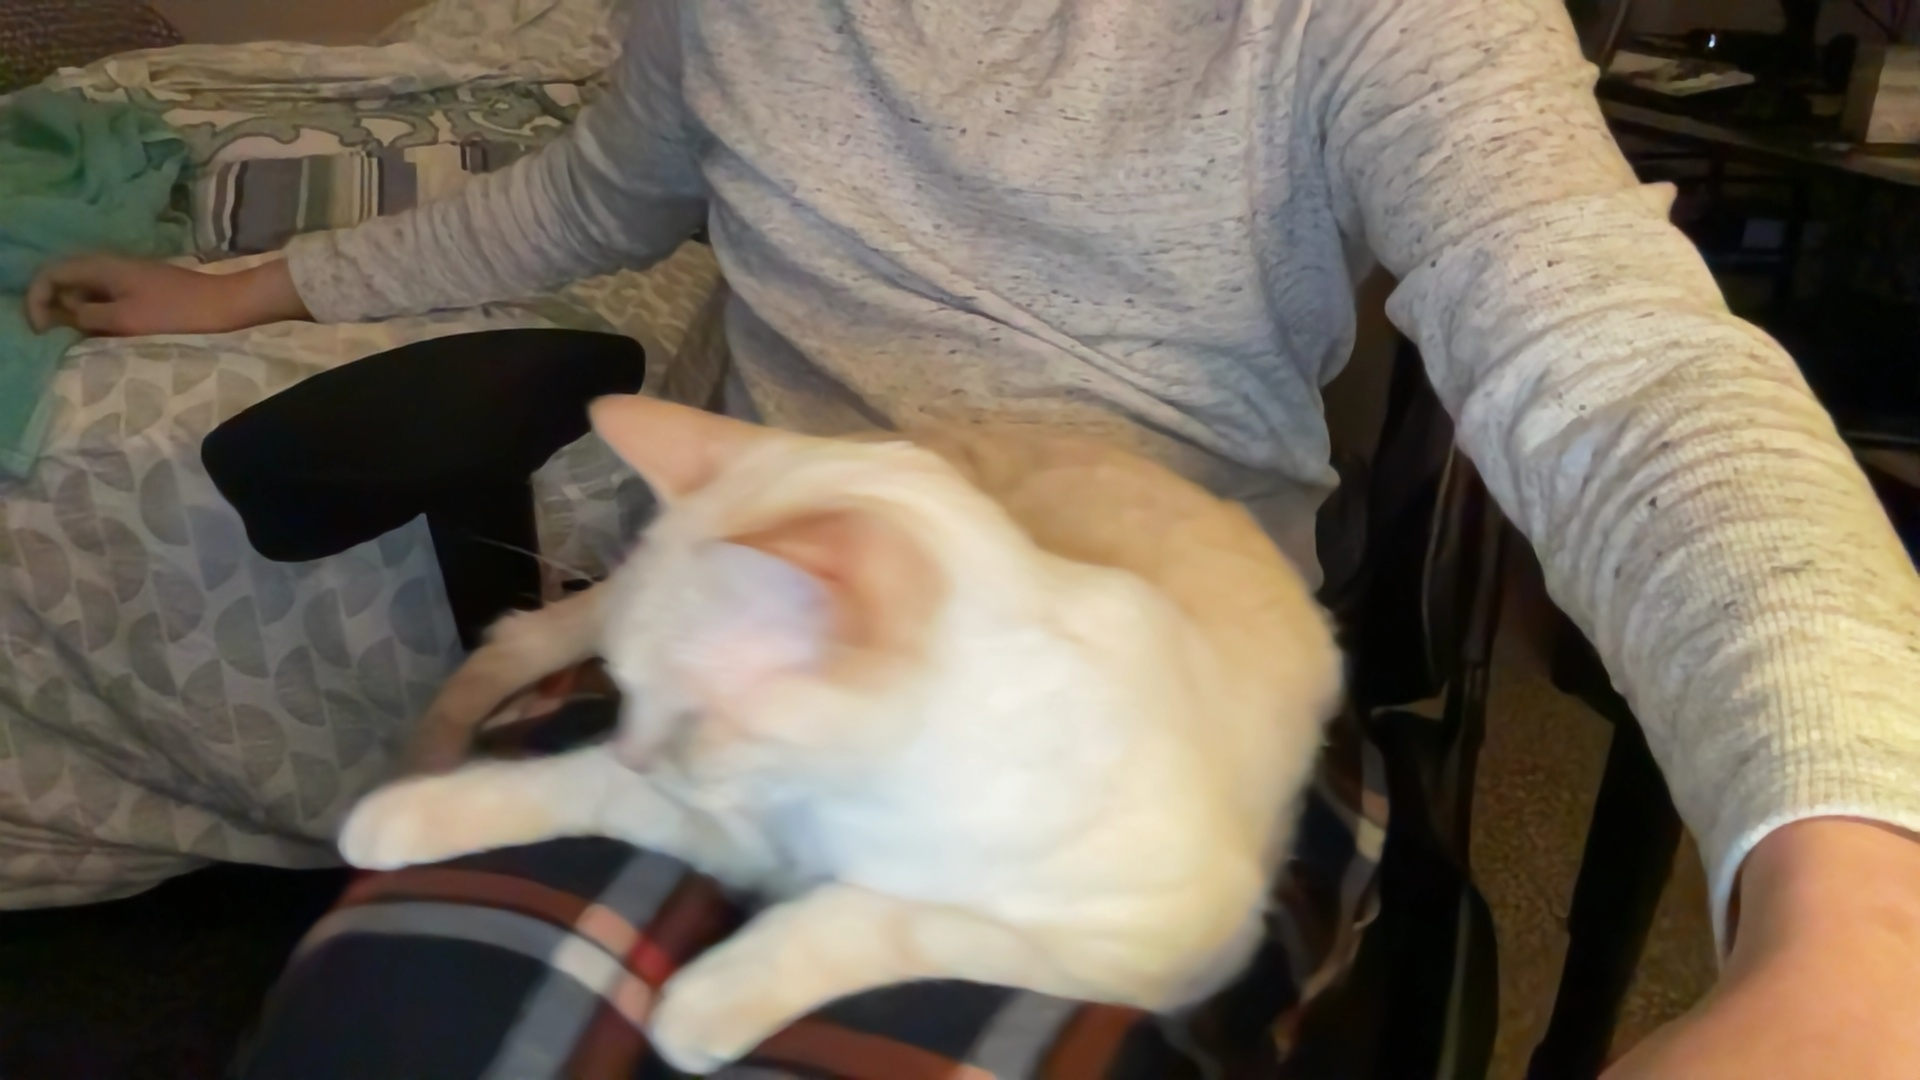cat: (315, 371, 1361, 1077)
